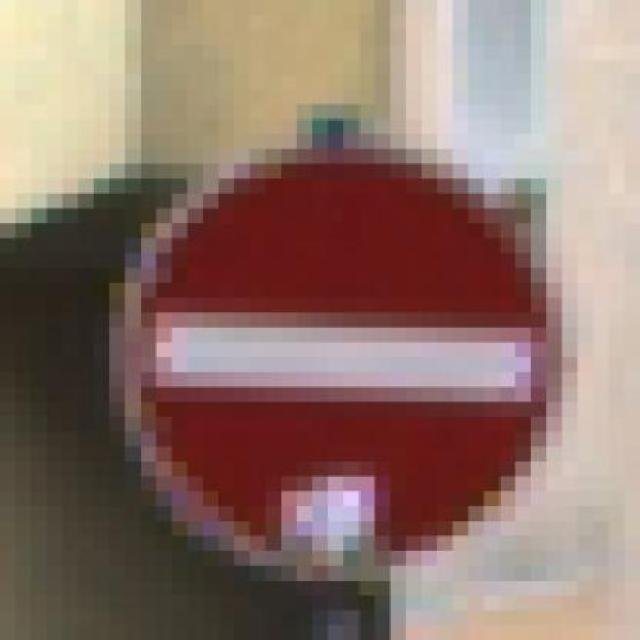B2: (119, 135, 554, 573)
